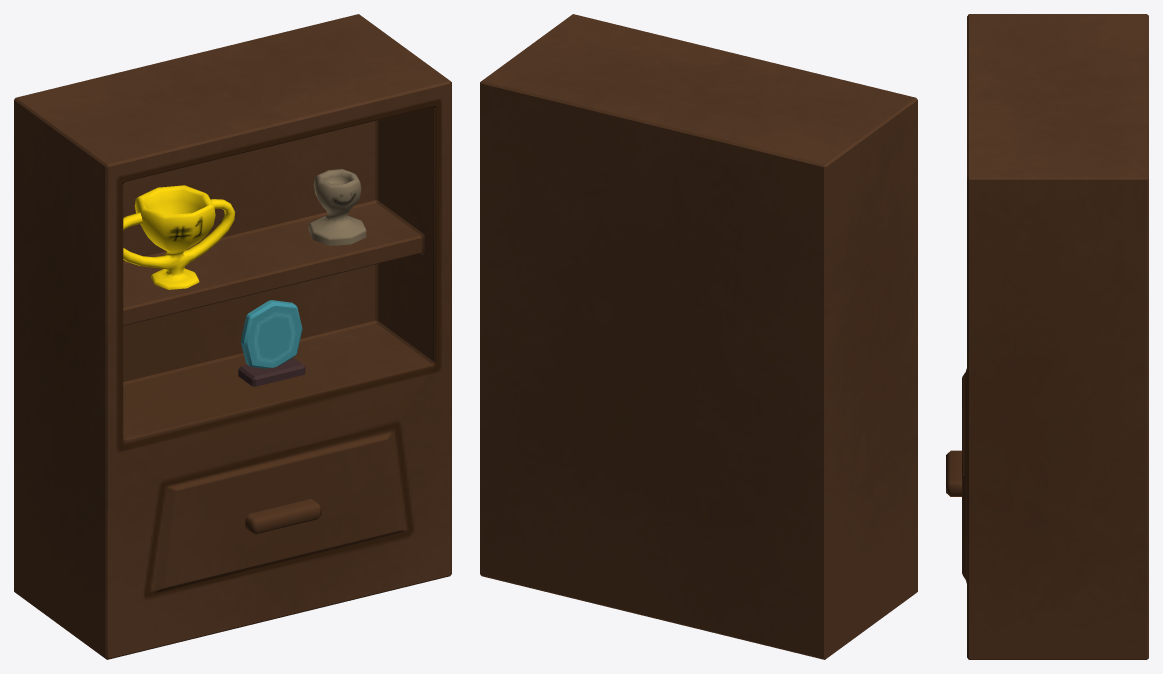
The model's file is trophy case.fbx.
3 renders of one model, left to right at view 1: azimuth 30°, elevation 25°; view 2: azimuth 150°, elevation 25°; view 3: azimuth 270°, elevation 25°, orthographic. The views are drawn at different scales.
Visible parts, largest first — view 1: polySurface425; view 2: polySurface425; view 3: polySurface425.
Boxes of the visible parts, box(x1,y1,x2,y2) form: polySurface425: box(14, 14, 451, 659); polySurface425: box(480, 14, 917, 659); polySurface425: box(946, 14, 1148, 659).
Size of the model in its own units: 1.39 by 1.9 by 0.7222.
1 material, 1 textured.
